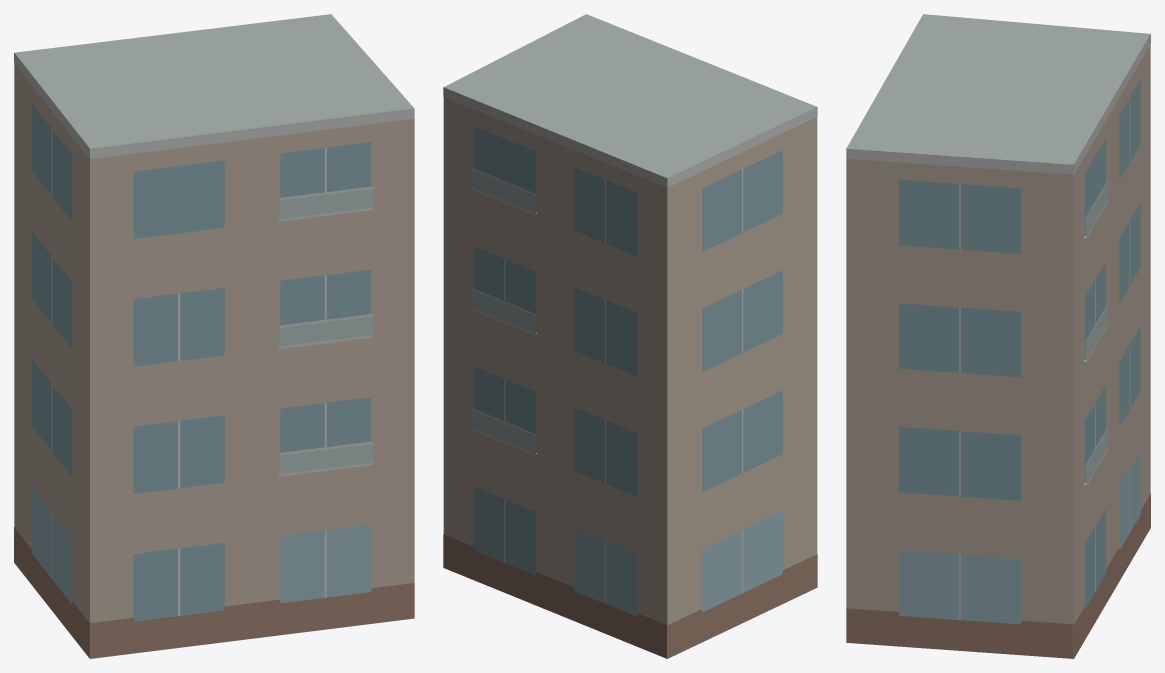
The model's file is survey-upis-33042754.glb.
The picture shows the model from 3 angles, left to right: view 1: azimuth 30°, elevation 25°; view 2: azimuth 150°, elevation 25°; view 3: azimuth 270°, elevation 25°; orthographic projection. The views are drawn at different scales.
Parts seen in each view (by area): view 1: survey-upis-33042754.tmp; view 2: survey-upis-33042754.tmp; view 3: survey-upis-33042754.tmp.
Boxes of the visible parts, left/top/right/bottom form: survey-upis-33042754.tmp: left=14, top=14, right=414, bottom=658; survey-upis-33042754.tmp: left=443, top=14, right=817, bottom=658; survey-upis-33042754.tmp: left=846, top=14, right=1150, bottom=658.
Size of the model in its own units: 7.93 by 12.1 by 6.77.
